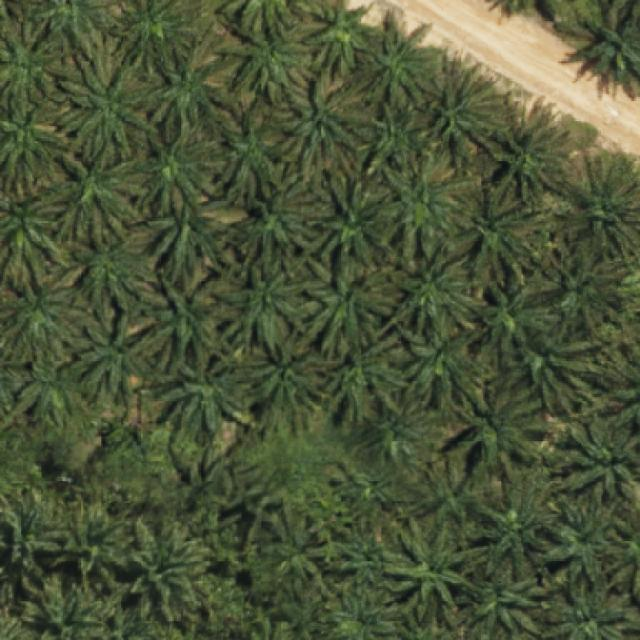Kelapa_Sawit: (133, 336, 264, 458), (442, 363, 556, 497), (370, 142, 485, 272), (49, 33, 160, 167), (488, 314, 620, 420), (376, 510, 495, 625), (137, 25, 245, 150), (272, 65, 385, 183), (55, 299, 179, 406), (438, 176, 560, 284), (60, 215, 171, 330), (208, 256, 324, 366), (215, 3, 332, 111), (375, 242, 488, 352), (45, 138, 152, 253), (303, 168, 412, 278), (218, 172, 329, 280), (295, 248, 400, 362), (238, 318, 334, 442), (245, 492, 353, 602), (414, 55, 517, 170), (479, 94, 579, 212), (348, 5, 450, 120), (120, 510, 220, 627), (200, 94, 297, 212), (142, 268, 242, 380), (466, 473, 566, 584), (129, 119, 231, 227), (532, 236, 636, 339), (390, 318, 495, 418), (541, 475, 633, 588), (452, 269, 566, 360), (321, 321, 413, 432), (46, 489, 139, 596), (544, 405, 640, 503), (140, 185, 232, 284), (354, 99, 441, 179), (463, 564, 548, 640)
